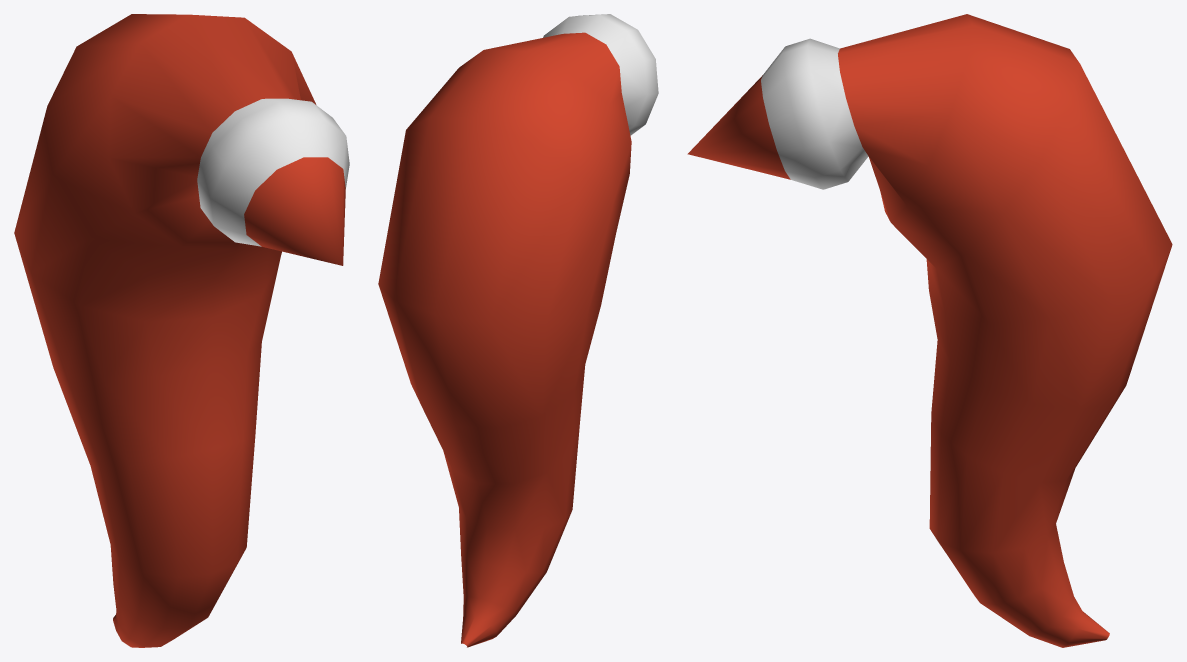
Rendered from hairTail.gltf.
3 renders of one model, left to right at view 1: azimuth 30°, elevation 25°; view 2: azimuth 150°, elevation 25°; view 3: azimuth 270°, elevation 25°, orthographic. The views are drawn at different scales.
Visible parts, largest first — view 1: hairTail; view 2: hairTail; view 3: hairTail.
Boxes of the visible parts, x1=… form: hairTail: x1=14, y1=14, x2=349, y2=647; hairTail: x1=378, y1=14, x2=658, y2=647; hairTail: x1=687, y1=14, x2=1172, y2=647.
Bounding box in the file's own units: 0.5861 × 1.54 × 1.09.
